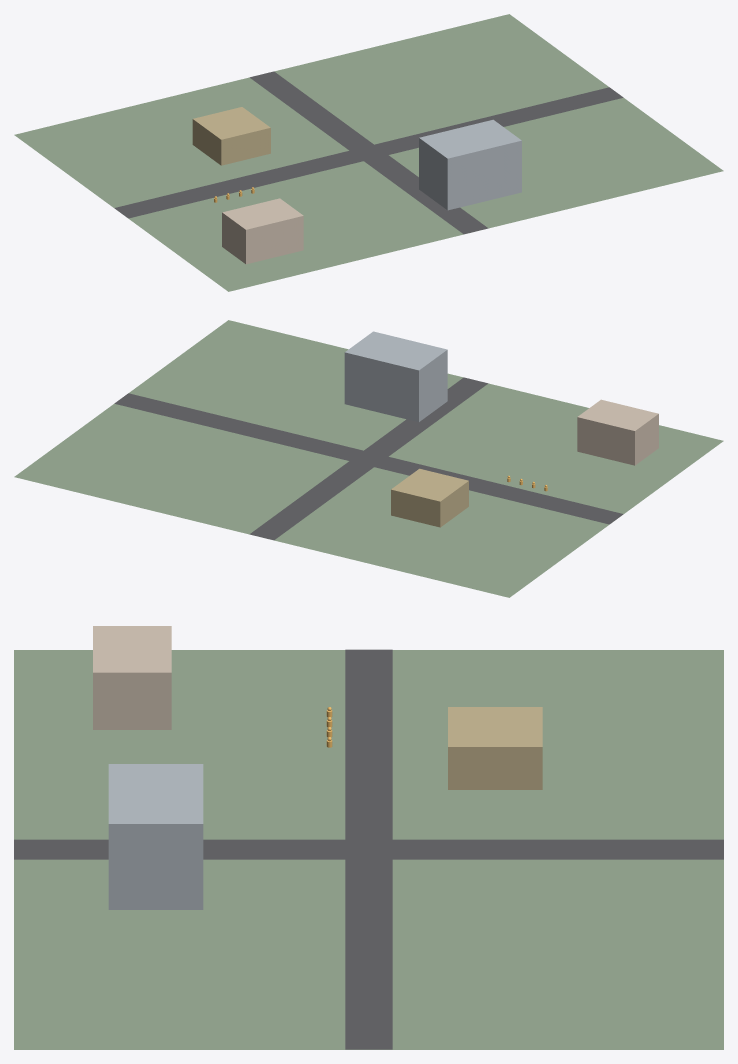
File: nexus_world.glb
3 renders of one model, top to bottom at view 1: azimuth 30°, elevation 25°; view 2: azimuth 150°, elevation 25°; view 3: azimuth 270°, elevation 25°, orthographic. The views are drawn at different scales.
Visible parts, largest first — view 1: nx_ground, bld:b2, nx_road_h0, nx_road_v1, bld:b1, bld:b3; view 2: nx_ground, bld:b2, nx_road_h0, nx_road_v1, bld:b1, bld:b3; view 3: nx_ground, nx_road_h0, bld:b2, nx_road_v1, bld:b1, bld:b3.
Part boxes in pixels (box(x1,y1,x2,y2)): nx_ground: box(14, 14, 723, 291); bld:b2: box(419, 119, 521, 210); nx_road_h0: box(114, 87, 623, 218); nx_road_v1: box(249, 71, 488, 234); bld:b1: box(222, 198, 303, 264); bld:b3: box(192, 107, 270, 165); nx_ground: box(14, 320, 723, 597); bld:b2: box(344, 331, 447, 421); nx_road_h0: box(114, 393, 623, 524); nx_road_v1: box(249, 377, 488, 540); bld:b1: box(577, 399, 658, 465); bld:b3: box(391, 468, 468, 527); nx_ground: box(14, 650, 723, 1049); nx_road_h0: box(345, 649, 392, 1049); bld:b2: box(108, 764, 203, 909); nx_road_v1: box(14, 839, 723, 859); bld:b1: box(93, 626, 171, 729); bld:b3: box(448, 707, 542, 789).
Size of the model in its own units: 120 by 12 by 90.
